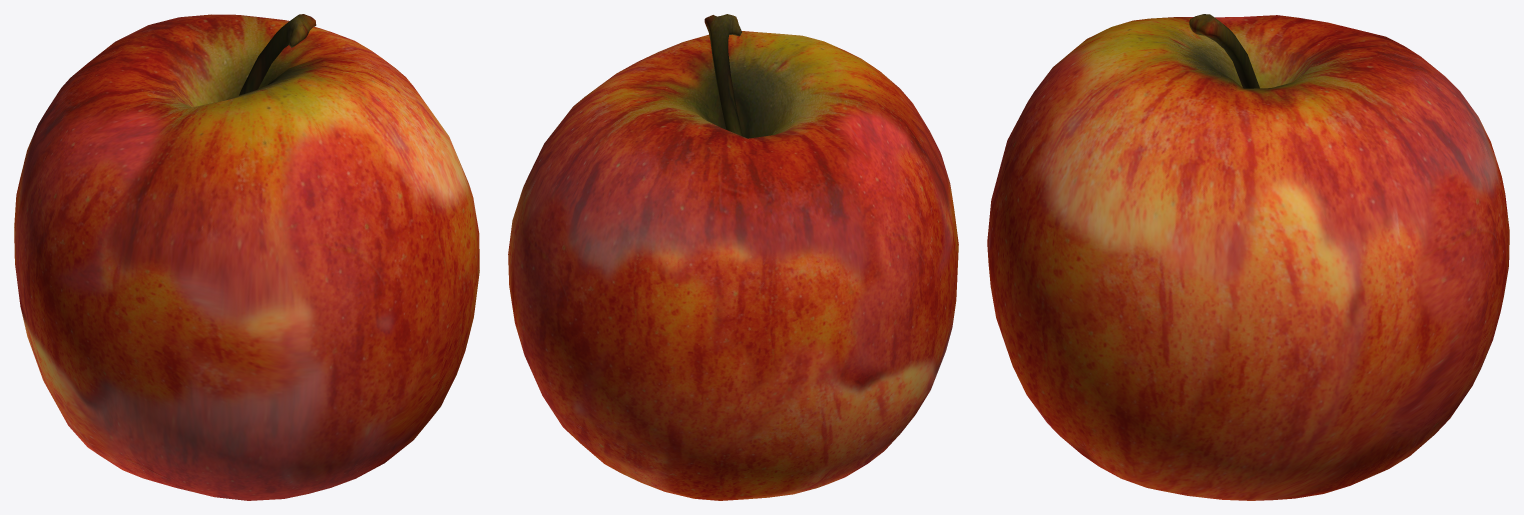
The model's file is apple_198adfef.glb.
3 views of the same model, side by side, from view 1: azimuth 30°, elevation 25°; view 2: azimuth 150°, elevation 25°; view 3: azimuth 270°, elevation 25° (orthographic). The views are drawn at different scales.
Parts seen in each view (by area): view 1: apple_low_obj; view 2: apple_low_obj; view 3: apple_low_obj.
Boxes of the visible parts, left/top/right/bottom form: apple_low_obj: left=14, top=14, right=479, bottom=500; apple_low_obj: left=508, top=14, right=958, bottom=500; apple_low_obj: left=987, top=14, right=1509, bottom=500.
Size of the model in its own units: 76.34 by 79.5 by 82.14.
1 material, 1 textured.
